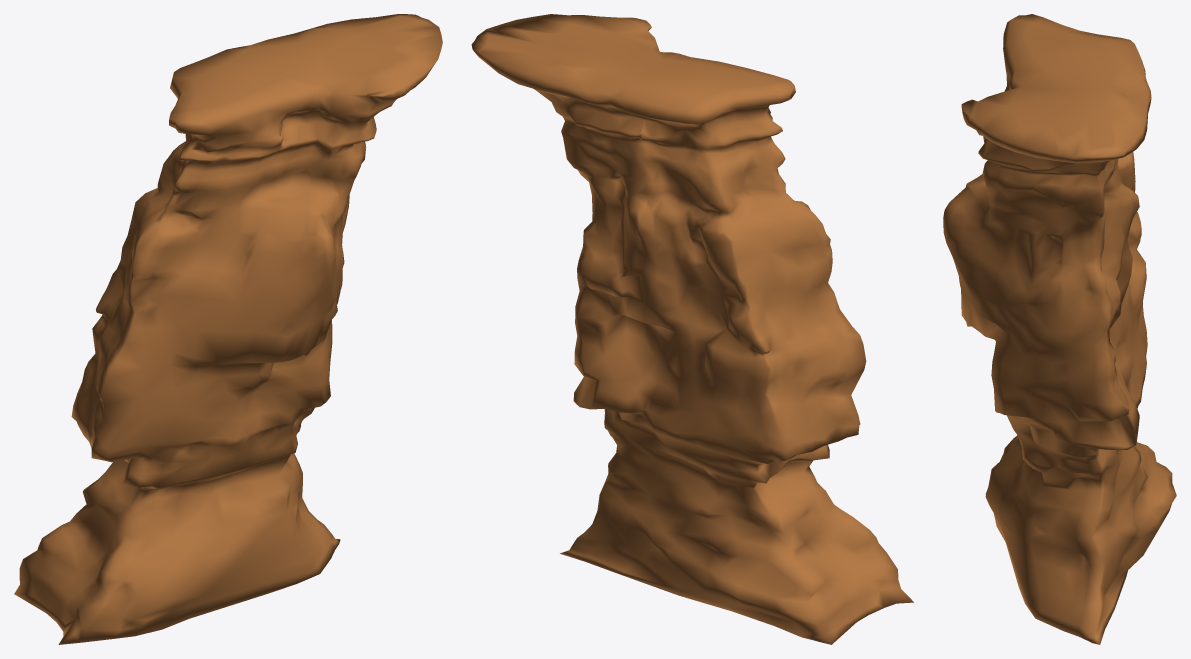
File: MSH_Rocks_Cliff_16_b.FBX
The picture shows the model from 3 angles, left to right: view 1: azimuth 30°, elevation 25°; view 2: azimuth 150°, elevation 25°; view 3: azimuth 270°, elevation 25°; orthographic projection. The views are drawn at different scales.
Parts seen in each view (by area): view 1: MESH_LOD0; view 2: MESH_LOD0; view 3: MESH_LOD0.
Part boxes in pixels (x1,y1,x2,y2): MESH_LOD0: [14, 14, 442, 644]; MESH_LOD0: [471, 14, 913, 644]; MESH_LOD0: [943, 14, 1176, 644].
Size of what is drawn, in the model's own units: 534 by 636 by 249.
